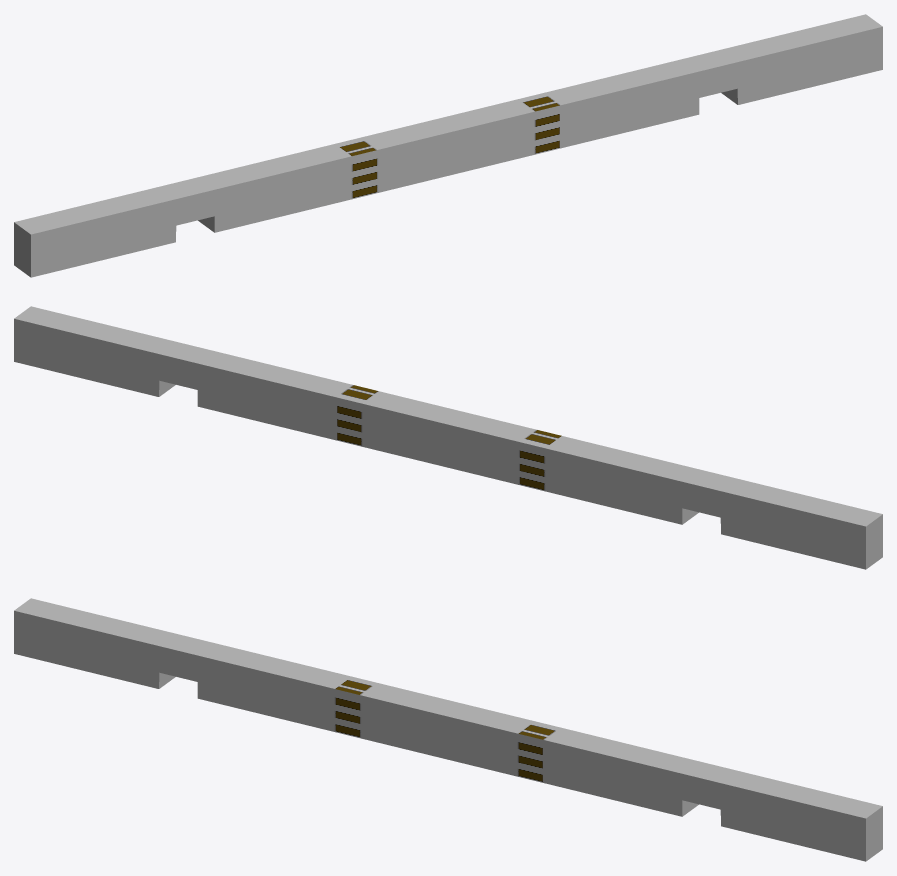
File: LabSim_Model3beam0.FBX
3 views of the same model, one above another, from view 1: azimuth 30°, elevation 25°; view 2: azimuth 150°, elevation 25°; view 3: azimuth 330°, elevation 25° (orthographic).
Parts seen in each view (by area): view 1: 对象001; view 2: 对象001; view 3: 对象001.
Part boxes in pixels (<box>): 对象001: <box>14,14,882,277</box>; 对象001: <box>14,306,882,569</box>; 对象001: <box>14,598,882,861</box>.
Bounding box in the file's own units: 67.23 × 3.25 × 2.32.
Materials: 1 (1 with a texture image).
